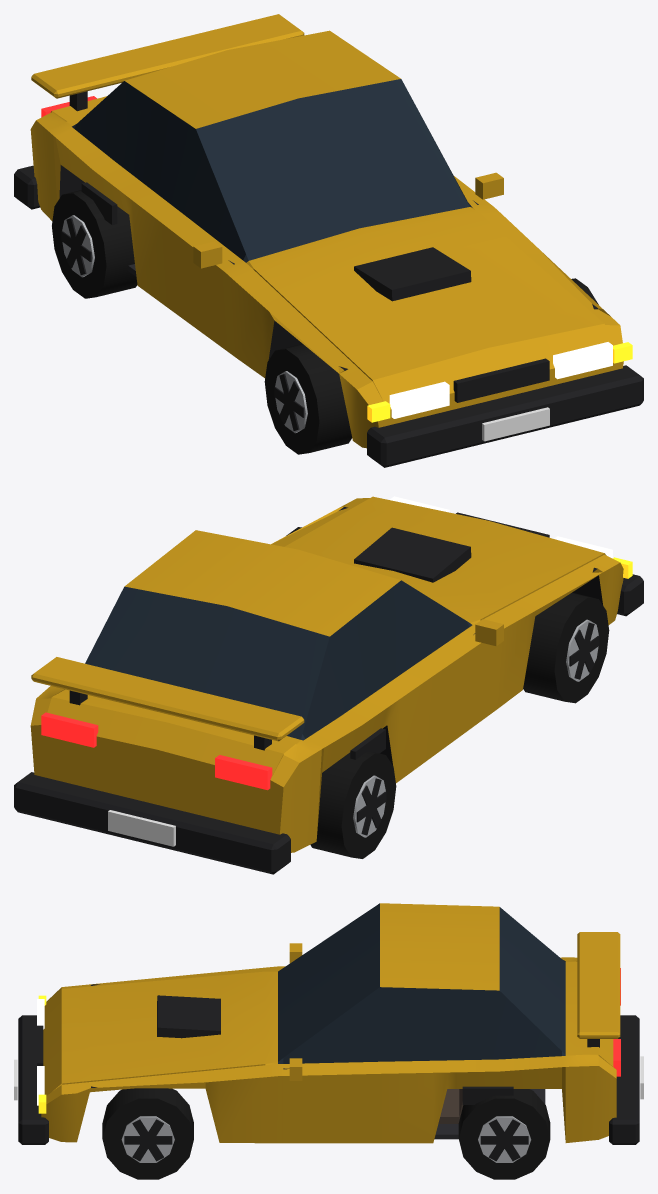
Rendered from sports.glb.
The picture shows the model from 3 angles, top to bottom: view 1: azimuth 30°, elevation 25°; view 2: azimuth 150°, elevation 25°; view 3: azimuth 270°, elevation 25°; orthographic projection. The views are drawn at different scales.
Parts seen in each view (by area): view 1: sports_body, sports_door_r, sports_wheel_fr, sports_wheel_rr, sports_door_l; view 2: sports_body, sports_door_r, sports_wheel_fr, sports_wheel_rr; view 3: sports_body, sports_door_l, sports_wheel_fl, sports_wheel_rl.
Boxes of the visible parts, bbox=[...] form: sports_body: bbox=[14, 14, 643, 467]; sports_door_r: bbox=[118, 98, 245, 350]; sports_wheel_fr: bbox=[264, 344, 352, 454]; sports_wheel_rr: bbox=[52, 190, 137, 298]; sports_door_l: bbox=[408, 92, 503, 205]; sports_body: bbox=[14, 496, 643, 874]; sports_door_r: bbox=[355, 580, 503, 782]; sports_wheel_fr: bbox=[523, 592, 609, 703]; sports_wheel_rr: bbox=[310, 751, 396, 858]; sports_body: bbox=[14, 903, 643, 1144]; sports_door_l: bbox=[283, 987, 456, 1143]; sports_wheel_fl: bbox=[102, 1088, 193, 1179]; sports_wheel_rl: bbox=[458, 1089, 550, 1179].
Bounding box in the file's own units: 2.3 × 1.56 × 4.95.
